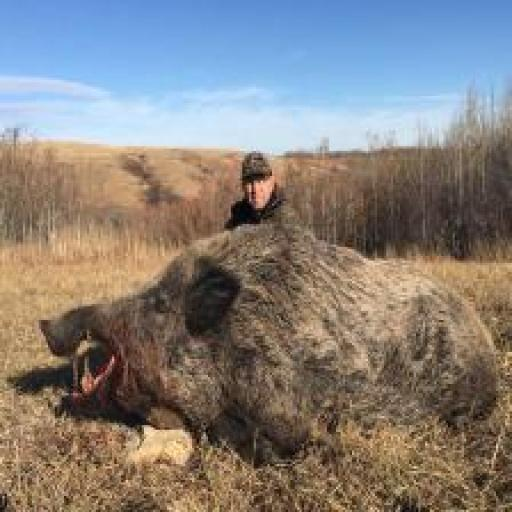Pig: (39, 224, 500, 464)
